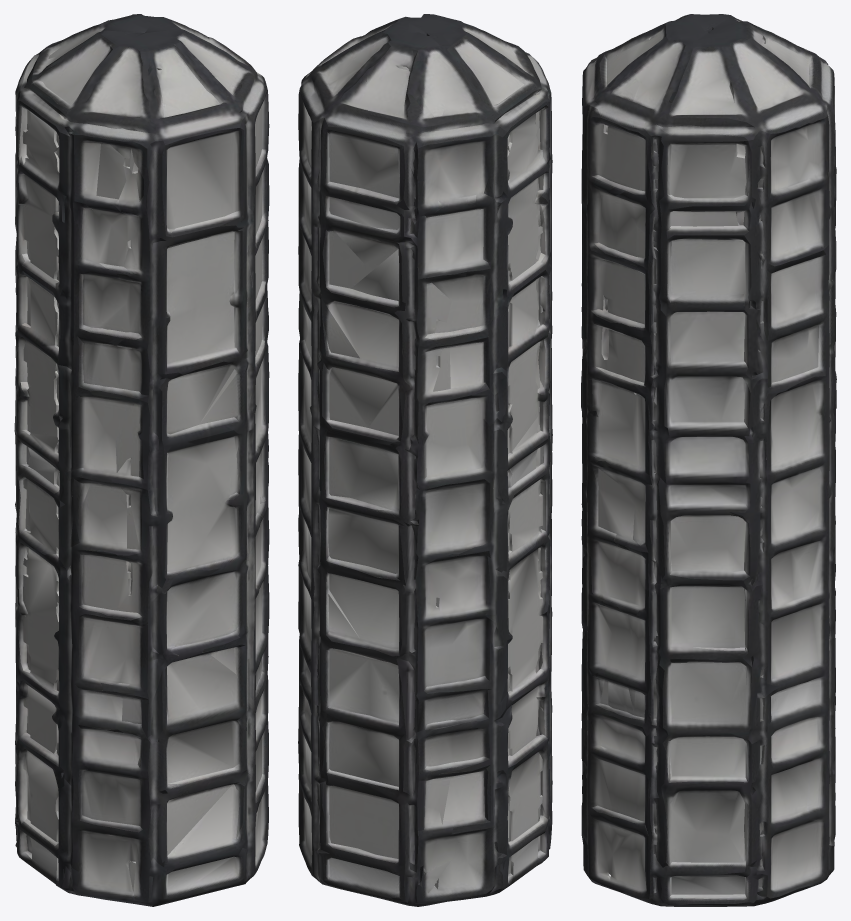
3 renders of one model, left to right at view 1: azimuth 30°, elevation 25°; view 2: azimuth 150°, elevation 25°; view 3: azimuth 270°, elevation 25°, orthographic.
Visible parts, largest first — view 1: world; view 2: world; view 3: world.
Part boxes in pixels (box(x1,y1,x2,y2)): world: box(14, 14, 269, 906); world: box(298, 14, 552, 906); world: box(581, 14, 836, 906).
Size of the model in its own units: 0.4804 by 1.8 by 0.5029.
Materials: 1 (1 with a texture image).
